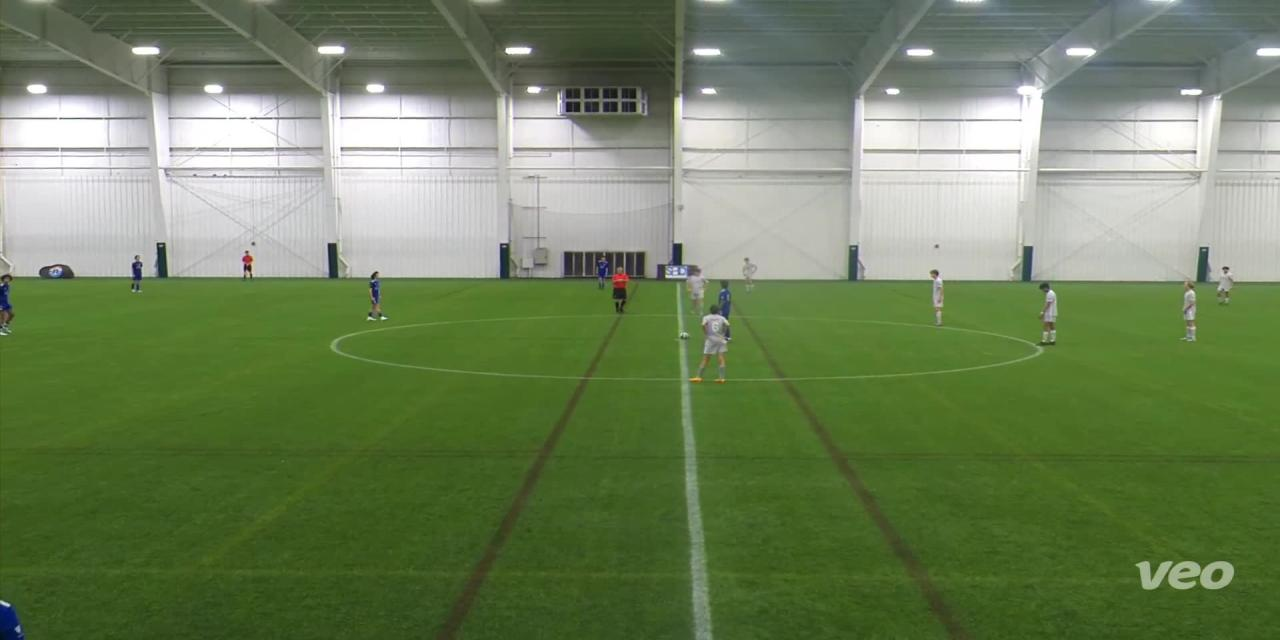sports ball: (674, 325, 692, 342)
